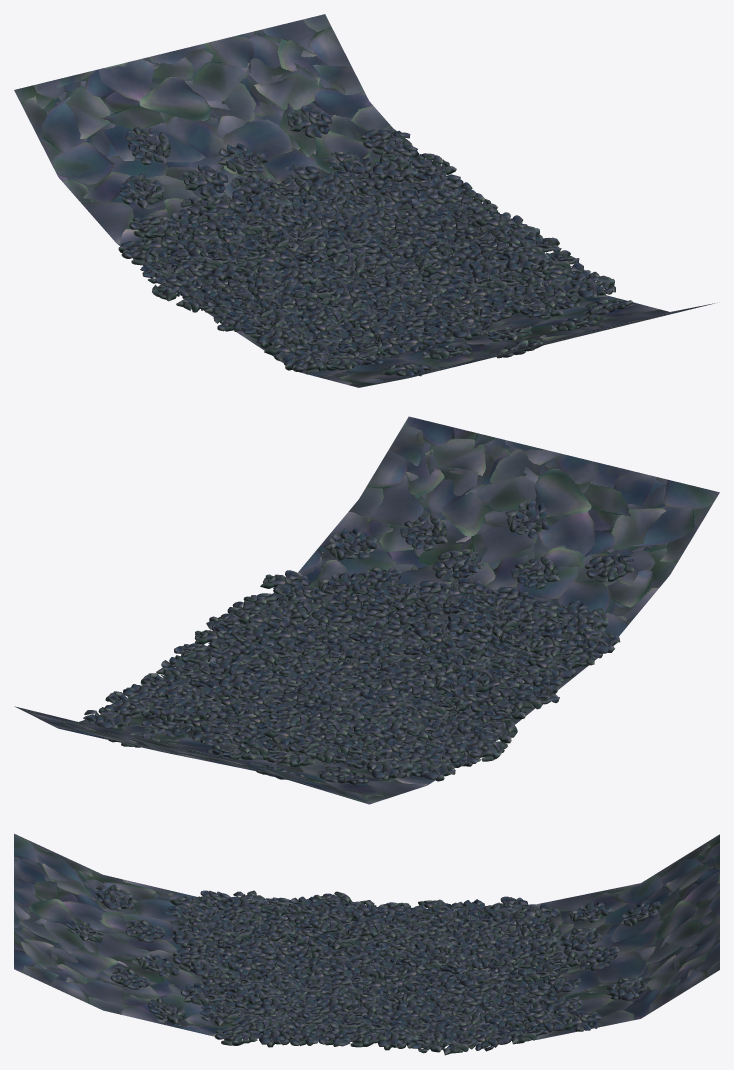
Rendered from rocks2.glb.
3 views of the same model, one above another, from view 1: azimuth 30°, elevation 25°; view 2: azimuth 150°, elevation 25°; view 3: azimuth 270°, elevation 25° (orthographic). The views are drawn at different scales.
Visible parts, largest first — view 1: _plane, low poly.033, low poly.207, low poly.198, low poly.199, low poly.031, low poly.156, low poly.034, low poly.208, low poly.158, low poly.203, low poly.166 (+42 smaller); view 2: _plane, low poly.039, low poly.041, low poly.109, low poly.037, low poly.107, low poly.040, low poly.004, low poly.104, low poly.019, low poly.166, low poly.025 (+40 smaller); view 3: _plane, low poly.031, low poly.040, low poly.198, low poly.008, low poly.199, low poly.026, low poly.027, low poly.036, low poly.158, low poly.034, low poly.107 (+101 smaller).
Part boxes in pixels (box(x1,y1,x2,y2)): _plane: box(14, 14, 717, 387); low poly.033: box(126, 127, 170, 164); low poly.207: box(119, 173, 164, 208); low poly.198: box(218, 143, 267, 174); low poly.199: box(183, 164, 228, 196); low poly.031: box(287, 105, 332, 137); low poly.156: box(361, 129, 412, 154); low poly.034: box(571, 271, 615, 297); low poly.208: box(129, 215, 179, 238); low poly.158: box(380, 143, 424, 170); low poly.203: box(247, 189, 291, 219); low poly.166: box(152, 274, 195, 301); _plane: box(14, 416, 719, 804); low poly.039: box(400, 515, 447, 551); low poly.041: box(324, 527, 376, 560); low poly.109: box(432, 550, 483, 581); low poly.037: box(505, 500, 550, 538); low poly.107: box(511, 557, 559, 588); low poly.040: box(585, 553, 634, 582); low poly.004: box(373, 579, 418, 610); low poly.104: box(569, 628, 620, 653); low poly.019: box(474, 604, 519, 637); low poly.166: box(456, 736, 507, 761); low poly.025: box(410, 580, 460, 607); _plane: box(14, 833, 719, 1044); low poly.031: box(606, 977, 647, 1000); low poly.040: box(94, 884, 133, 910); low poly.198: box(578, 945, 619, 970); low poly.008: box(199, 1000, 241, 1026); low poly.199: box(560, 927, 601, 951); low poly.026: box(181, 983, 225, 1005); low poly.027: box(316, 1022, 356, 1046); low poly.036: box(378, 1026, 418, 1050); low poly.158: box(525, 1011, 569, 1034); low poly.034: box(214, 1027, 259, 1045); low poly.107: box(125, 919, 165, 942).
Size of the model in its own units: 36.16 by 8.95 by 70.96.
Materials: 2 (2 with a texture image).
